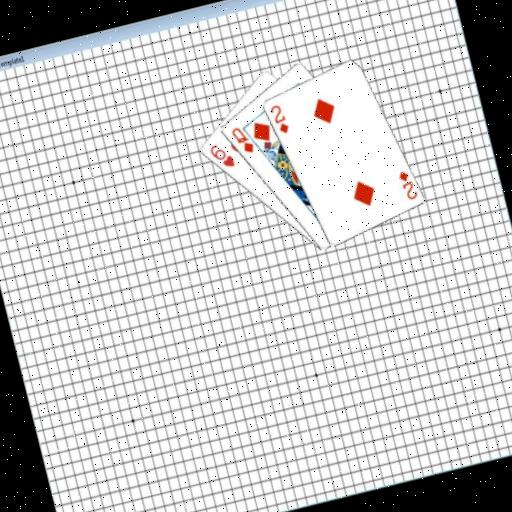2D: (394, 166, 420, 204), (266, 100, 292, 137)
6H: (205, 138, 237, 173)
QD: (227, 121, 257, 159)
